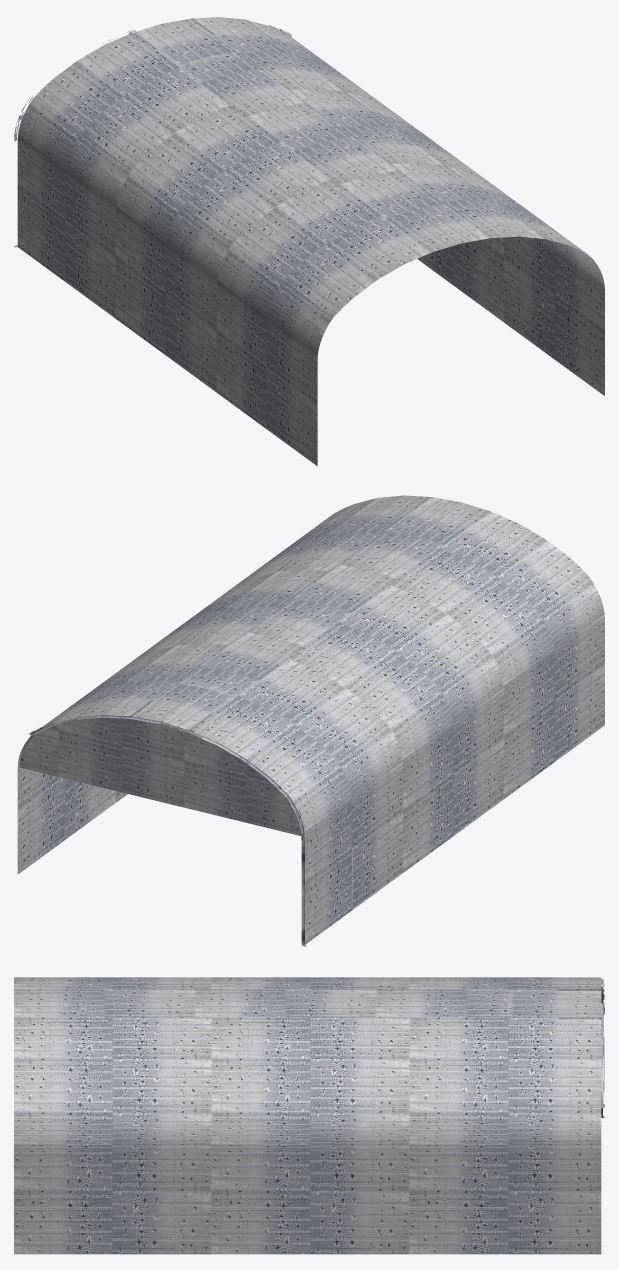
Rendered from sera3.fbx.
3 views of the same model, one above another, from view 1: azimuth 30°, elevation 25°; view 2: azimuth 150°, elevation 25°; view 3: azimuth 270°, elevation 25° (orthographic). The views are drawn at different scales.
Visible parts, largest first — view 1: Cylinder; view 2: Cylinder; view 3: Cylinder.
Boxes of the visible parts, x1=… form: Cylinder: x1=14, y1=17, x2=604, y2=466; Cylinder: x1=17, y1=495, x2=604, y2=946; Cylinder: x1=14, y1=977, x2=604, y2=1254.
Size of the model in its own units: 892 by 553 by 1595.
1 material, 1 textured.
